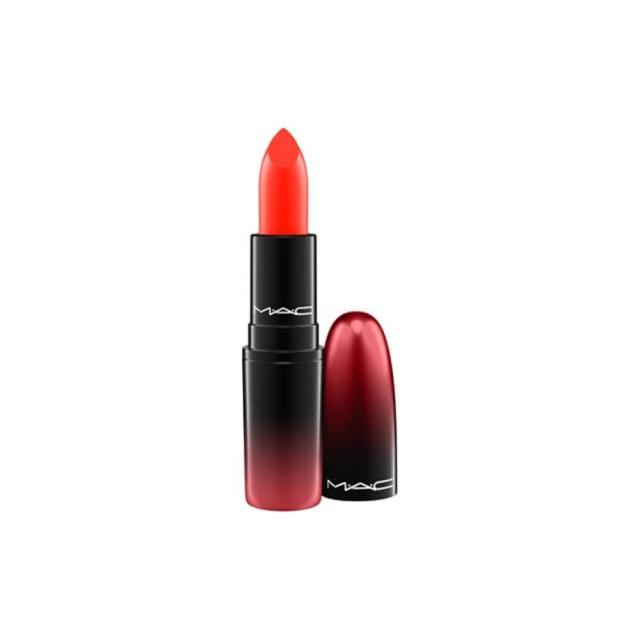lipstick: (227, 129, 334, 503)
